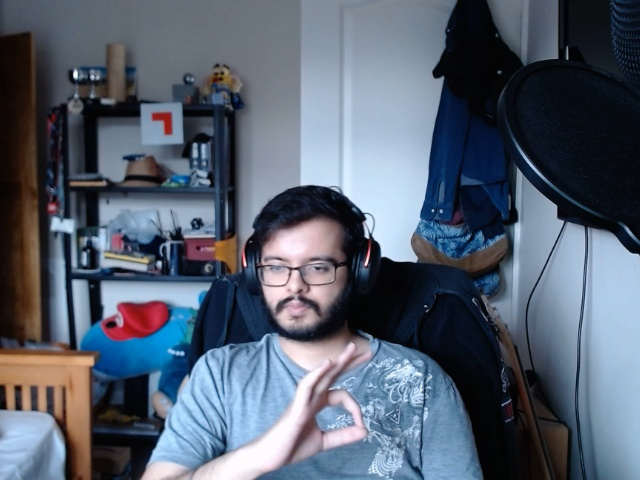Okay: (240, 341, 402, 479)
